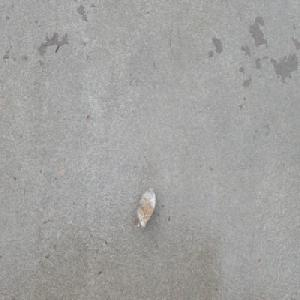Rock: (135, 185, 156, 230)
